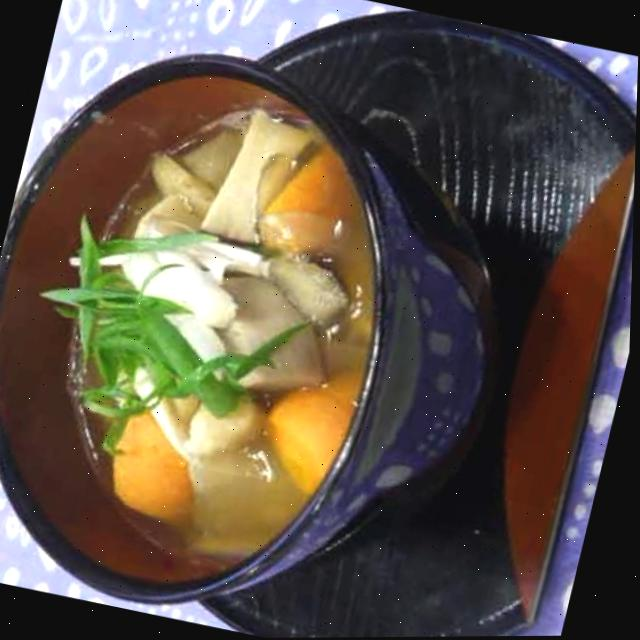蔬菜料理: (0, 11, 541, 640)
